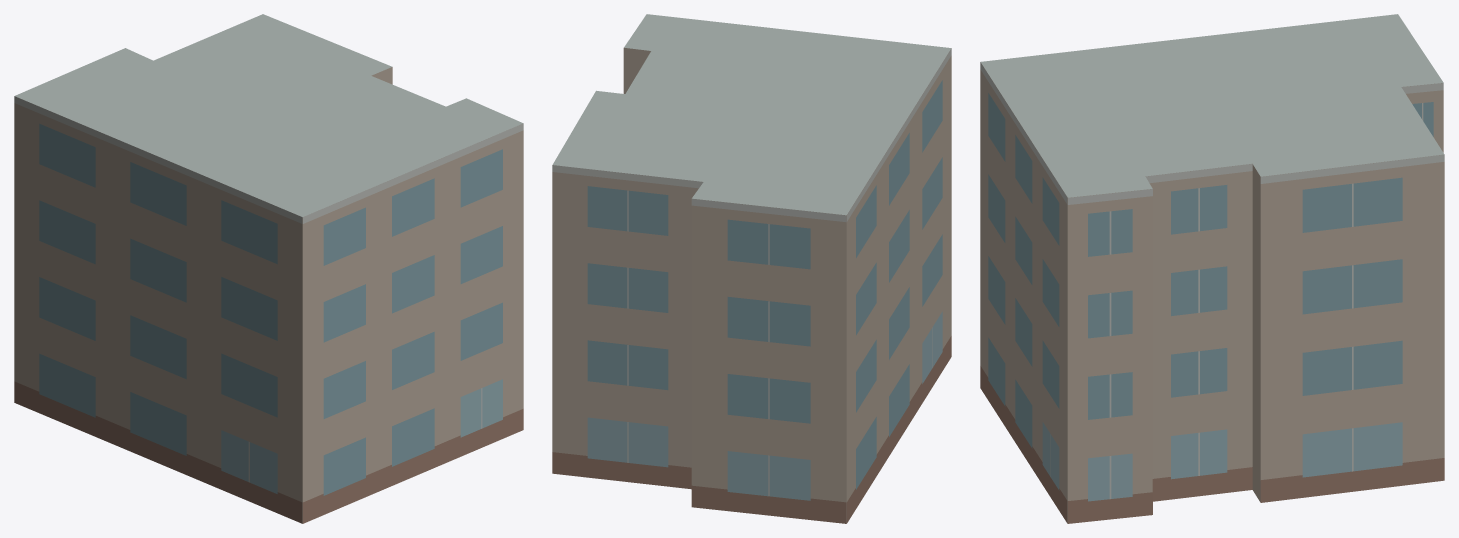
Rendered from survey-upis-32969527.glb.
The picture shows the model from 3 angles, left to right: view 1: azimuth 30°, elevation 25°; view 2: azimuth 150°, elevation 25°; view 3: azimuth 270°, elevation 25°; orthographic projection. The views are drawn at different scales.
Parts seen in each view (by area): view 1: survey-upis-32969527.tmp; view 2: survey-upis-32969527.tmp; view 3: survey-upis-32969527.tmp.
Part boxes in pixels (x1,y1,x2,y2): survey-upis-32969527.tmp: (14, 14, 523, 523); survey-upis-32969527.tmp: (552, 14, 951, 523); survey-upis-32969527.tmp: (980, 14, 1444, 523).
Bounding box in the file's own units: 13.12 × 10.85 × 14.01.
